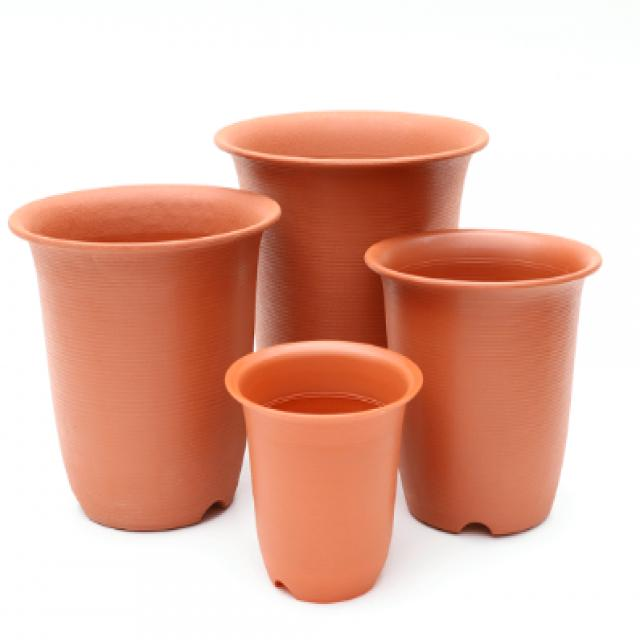Plant Pot: (9, 160, 272, 578), (213, 110, 472, 453), (366, 227, 602, 544), (222, 340, 440, 615)
